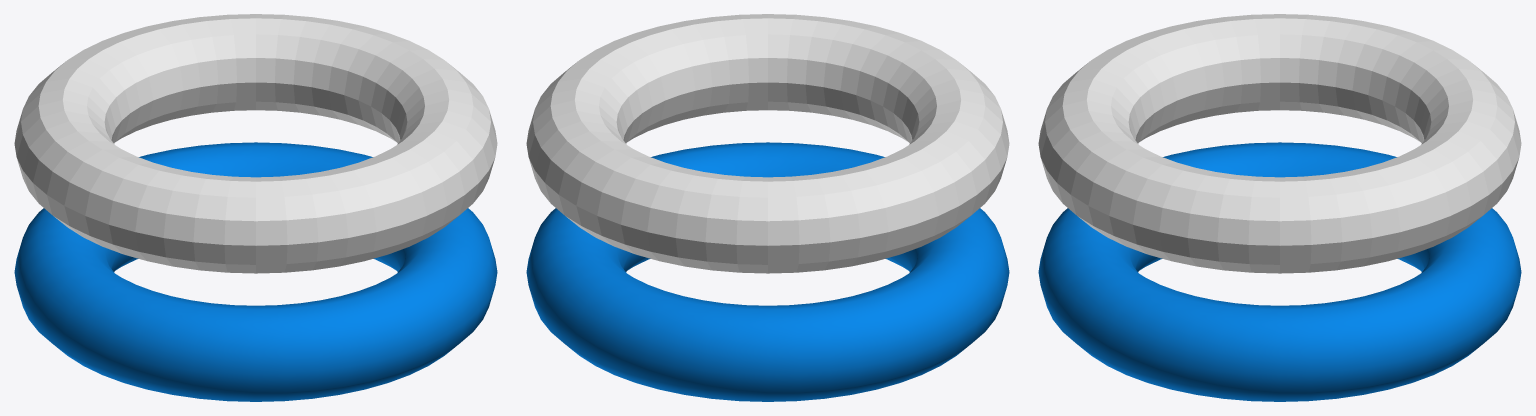
Rendered from double_torus.glb.
The picture shows the model from 3 angles, left to right: view 1: azimuth 30°, elevation 25°; view 2: azimuth 150°, elevation 25°; view 3: azimuth 270°, elevation 25°; orthographic projection.
Visible parts, largest first — view 1: Torus.001, Torus; view 2: Torus.001, Torus; view 3: Torus.001, Torus.
Part boxes in pixels (x1=…): Torus.001: x1=14, y1=14, x2=497, y2=273; Torus: x1=14, y1=142, x2=497, y2=401; Torus.001: x1=526, y1=14, x2=1009, y2=273; Torus: x1=526, y1=142, x2=1009, y2=401; Torus.001: x1=1038, y1=14, x2=1521, y2=273; Torus: x1=1038, y1=142, x2=1521, y2=401.
Size of the model in its own units: 2.5 by 1.23 by 2.5.
